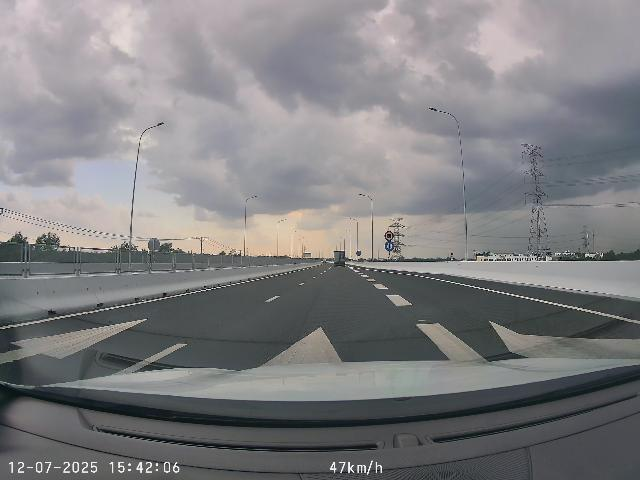127-toc-do-toi-da-80: (384, 231, 394, 241)
306-toc-do-toi-thieu-60: (384, 241, 394, 251)
